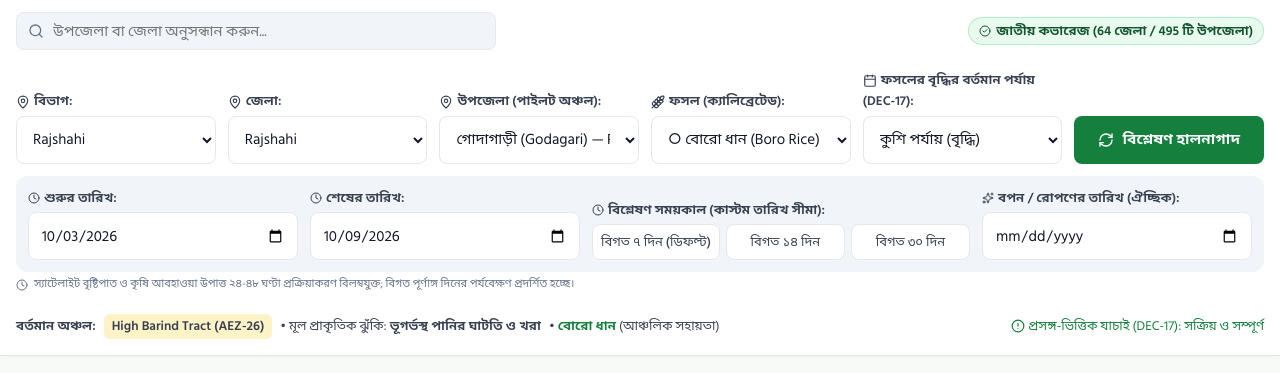
Test: ContextSelector Component › displays empty results notice when no matching location found and clears with X button
This screenshot has width=1280, height=373.
Type "NonExistentLocation" into the dropdown with placeholder "উপজেলা বা জেলা অনুসন্ধান করুন..." at point(256, 31), box [16,12,496,50]
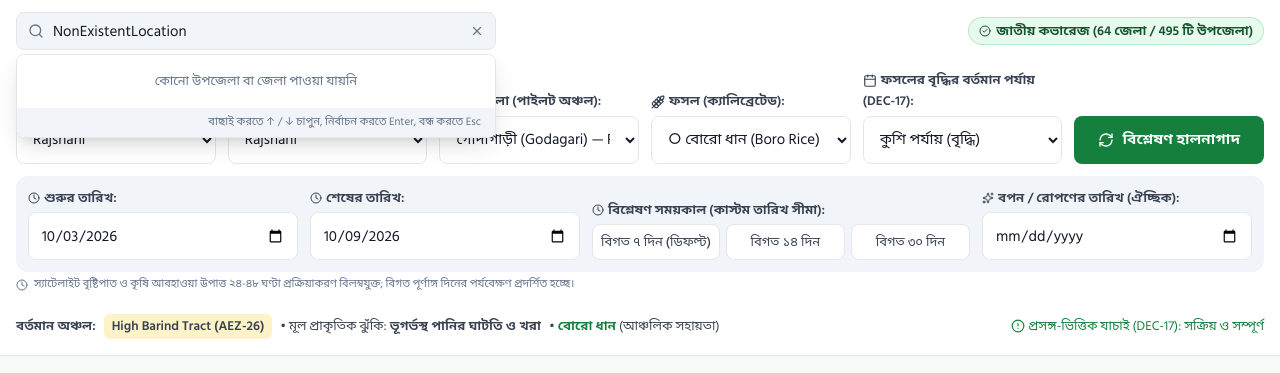
Expected: the text "কোনো উপজেলা বা জেলা পাওয়া যায়নি" is shown, [155,70,357,92]
Note: Clear button
Click the button named "মুছুন" at point(477, 31), box [466,20,488,42]
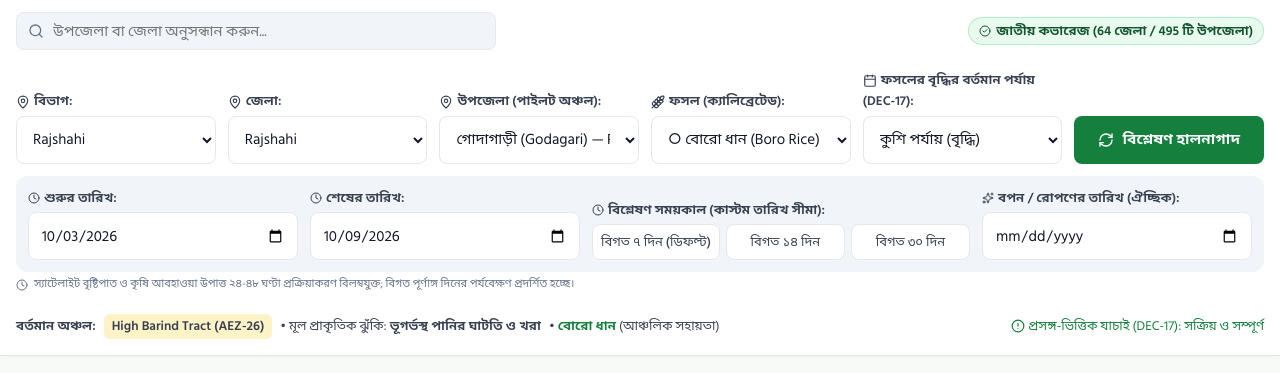
Expected: the list is gone
Expected: the dropdown with placeholder "উপজেলা বা জেলা অনুসন্ধান করুন..." is empty, [16,12,496,50]
